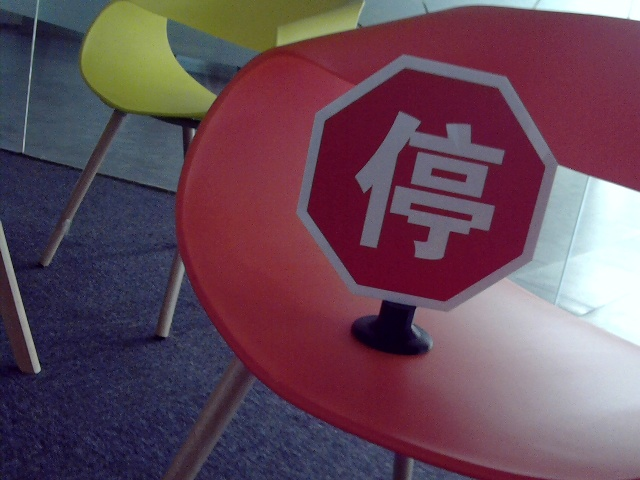stop: (358, 109, 500, 261)
